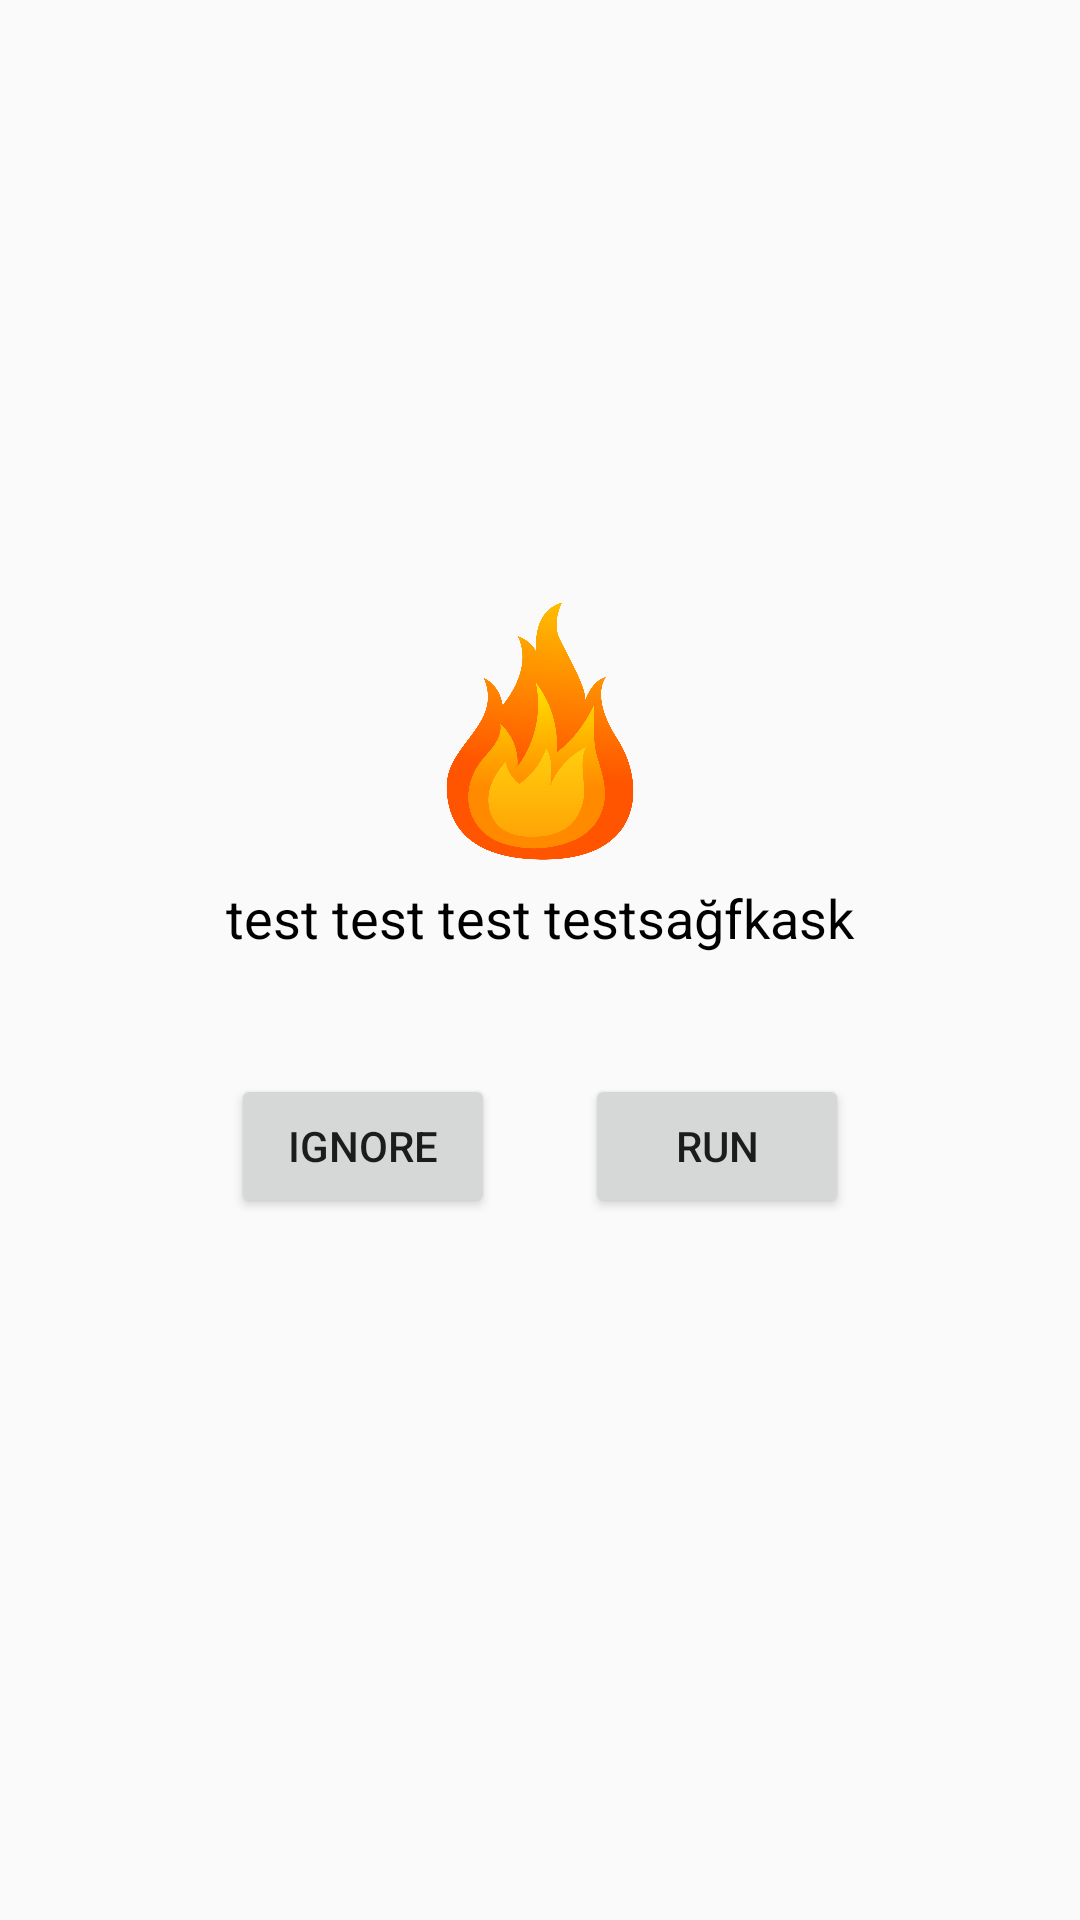

Named icons in this screenshot (1080w x 1920h) and their bounding boxes, (x1, y1, x2, y2):
fire: (447, 602, 633, 860)
